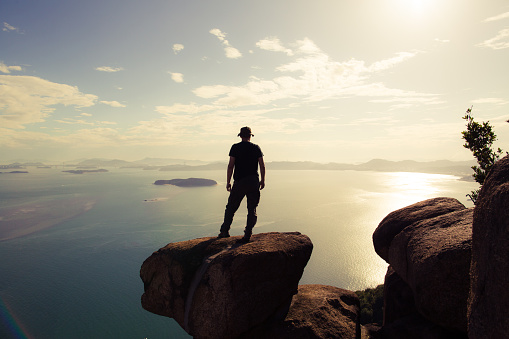em pe: (217, 112, 264, 238)
